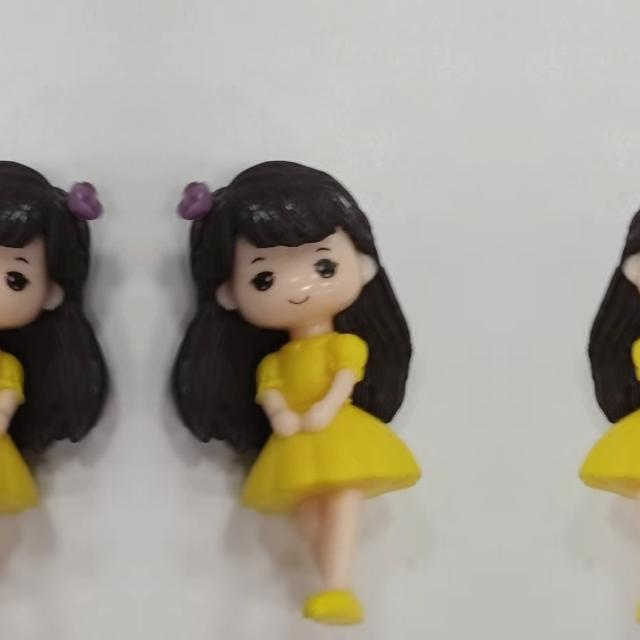woman dress: (238, 323, 413, 640), (586, 323, 640, 640), (0, 323, 41, 640)
woman head: (170, 152, 400, 338), (0, 152, 109, 337), (600, 152, 640, 337)
